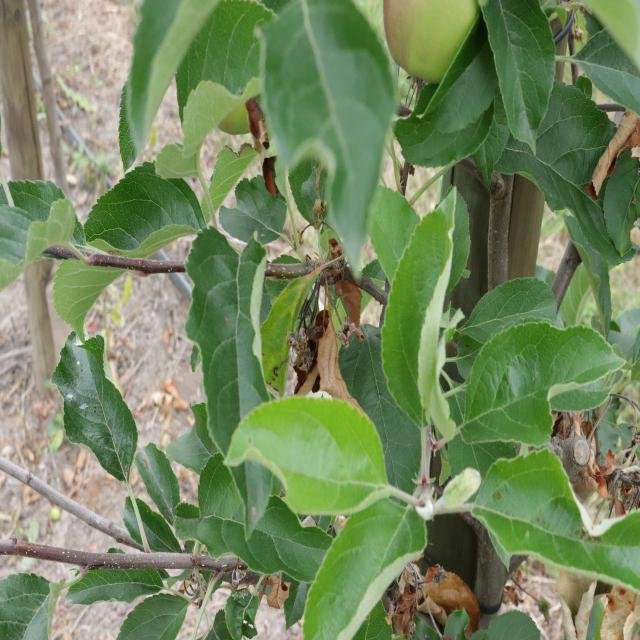-FireBlight-: (304, 265, 367, 401), (383, 570, 477, 634)
